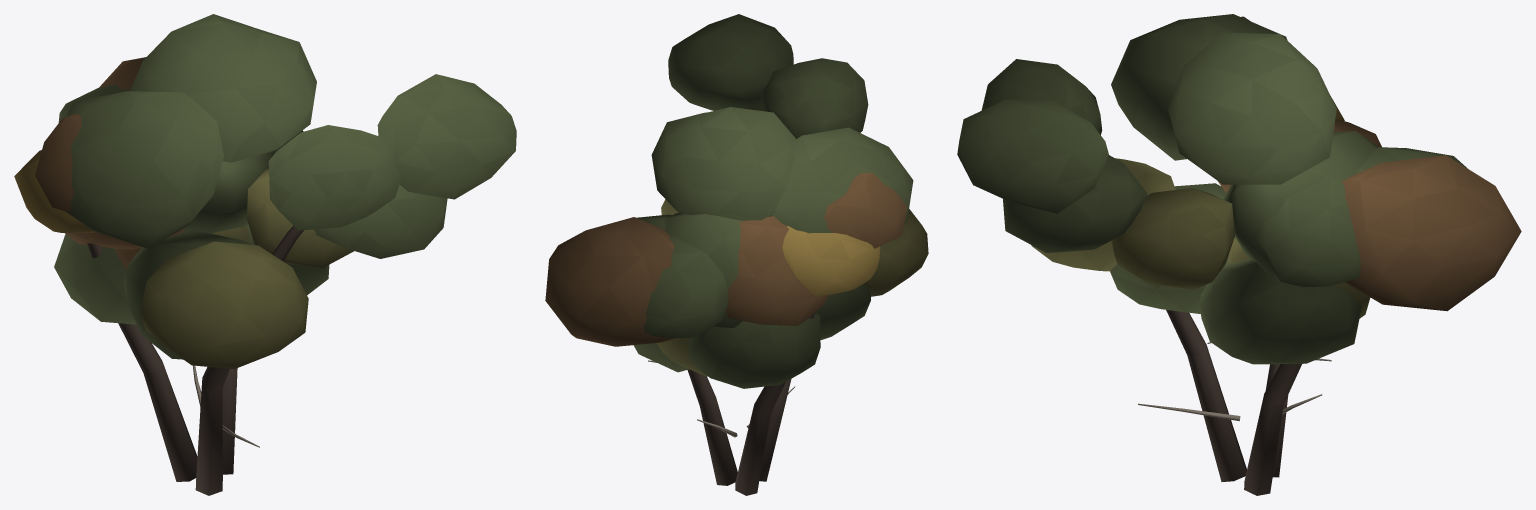
File: nire_c.glb
3 views of the same model, side by side, from view 1: azimuth 30°, elevation 25°; view 2: azimuth 150°, elevation 25°; view 3: azimuth 270°, elevation 25° (orthographic). The views are drawn at different scales.
Parts seen in each view (by area): view 1: NireC; view 2: NireC; view 3: NireC.
Part boxes in pixels (<box>): NireC: <box>14,14,516,495</box>; NireC: <box>545,14,928,495</box>; NireC: <box>957,14,1521,495</box>.
Size of what is drawn, in the model's own units: 3.58 by 4.22 by 4.8.
